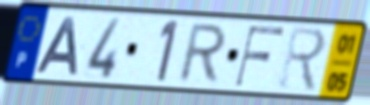1: (157, 18, 180, 85)
4: (84, 15, 121, 82)
A: (33, 16, 80, 77)
F: (232, 24, 288, 89)
R: (276, 24, 328, 95), (174, 22, 230, 85)
